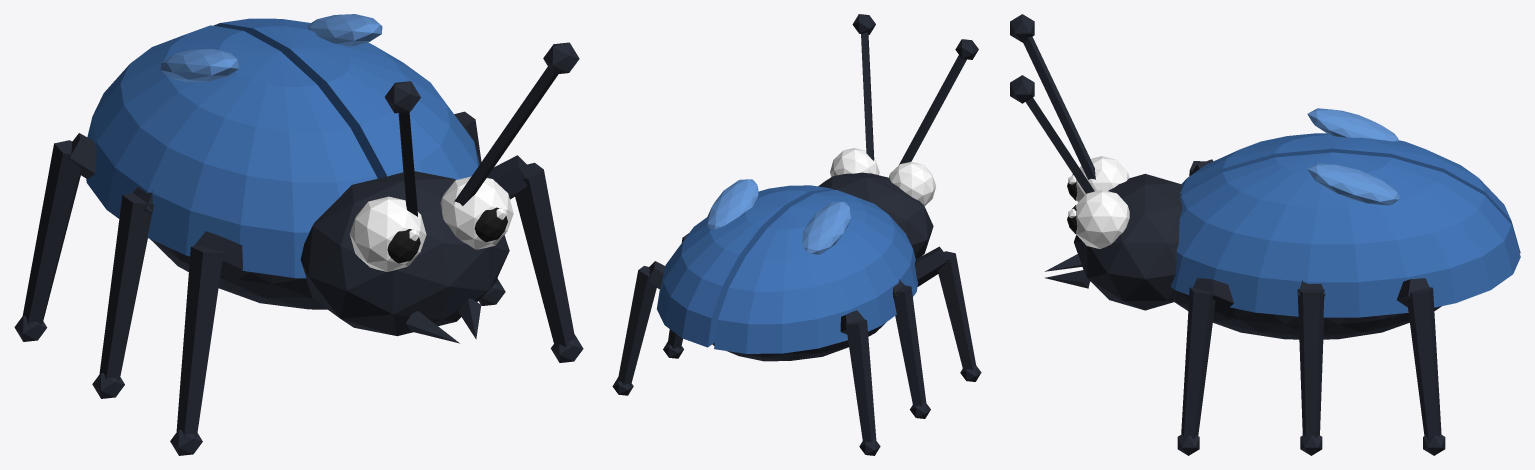
Rendered from escarabajo.glb.
The picture shows the model from 3 angles, left to right: view 1: azimuth 30°, elevation 25°; view 2: azimuth 150°, elevation 25°; view 3: azimuth 270°, elevation 25°; orthographic projection. The views are drawn at different scales.
Visible parts, largest first — view 1: escarabajo_caparazon, escarabajo_bicho_osc, pata_izq_1_bicho_osc, escarabajo_ojo_blanco, pata_der_1_bicho_osc, pata_izq_3_bicho_osc, pata_izq_2_bicho_osc, escarabajo_caparazon_brillo, escarabajo_pupila, pata_der_2_bicho_osc; view 2: escarabajo_caparazon, escarabajo_bicho_osc, escarabajo_caparazon_brillo, pata_izq_1_bicho_osc, pata_izq_3_bicho_osc, pata_der_3_bicho_osc, pata_izq_2_bicho_osc, escarabajo_ojo_blanco, pata_der_2_bicho_osc; view 3: escarabajo_caparazon, escarabajo_bicho_osc, pata_der_1_bicho_osc, pata_der_3_bicho_osc, escarabajo_caparazon_brillo, pata_der_2_bicho_osc, escarabajo_ojo_blanco.
Part boxes in pixels (x1,y1,x2,y2): escarabajo_caparazon: (86, 18, 479, 278); escarabajo_bicho_osc: (150, 42, 579, 343); pata_izq_1_bicho_osc: (170, 231, 249, 455); escarabajo_ojo_blanco: (349, 176, 513, 271); pata_der_1_bicho_osc: (487, 155, 583, 362); pata_izq_3_bicho_osc: (14, 133, 96, 341); pata_izq_2_bicho_osc: (92, 187, 153, 398); escarabajo_caparazon_brillo: (160, 14, 382, 82); escarabajo_pupila: (387, 207, 507, 263); pata_der_2_bicho_osc: (454, 111, 505, 305); escarabajo_caparazon: (657, 185, 918, 353); escarabajo_bicho_osc: (712, 14, 978, 361); escarabajo_caparazon_brillo: (707, 179, 850, 254); pata_izq_1_bicho_osc: (914, 246, 981, 381); pata_izq_3_bicho_osc: (838, 310, 880, 455); pata_der_3_bicho_osc: (612, 261, 665, 395); pata_izq_2_bicho_osc: (892, 279, 930, 418); escarabajo_ojo_blanco: (830, 148, 935, 206); pata_der_2_bicho_osc: (663, 233, 688, 358); escarabajo_caparazon: (1170, 133, 1520, 317); escarabajo_bicho_osc: (1010, 14, 1441, 339); pata_der_1_bicho_osc: (1177, 278, 1236, 455); pata_der_3_bicho_osc: (1390, 278, 1445, 455); escarabajo_caparazon_brillo: (1307, 108, 1399, 205); pata_der_2_bicho_osc: (1297, 280, 1325, 455); escarabajo_ojo_blanco: (1068, 156, 1129, 248).
Size of the model in its own units: 0.5106 by 0.5073 by 0.707.
